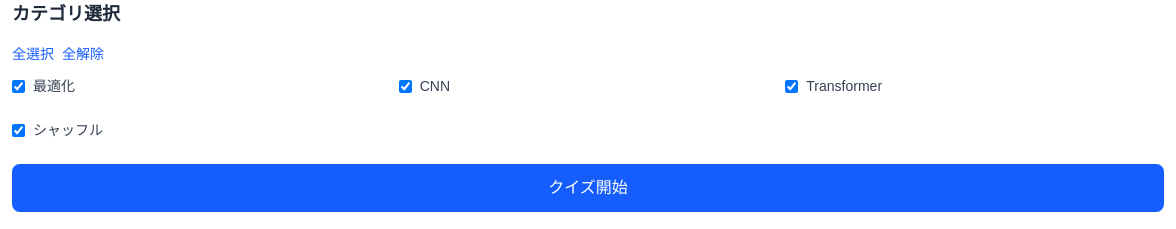
QuizSetup › 全選択ボタンで全チェック入る
This screenshot has width=1176, height=229.
Click the button "全解除": (83, 54) [62,44,104,64]
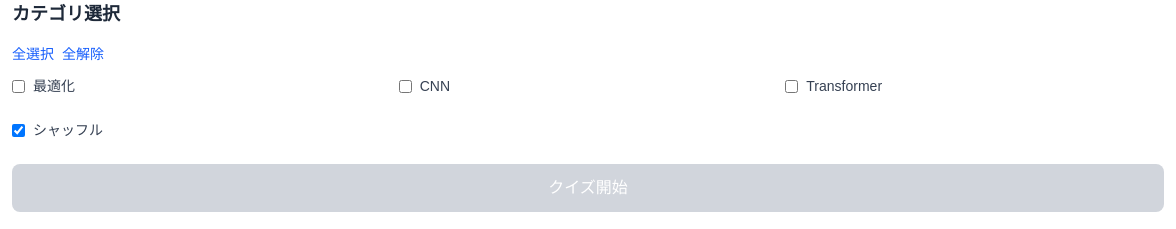
Click the button "全選択": (33, 54) [12,44,54,64]
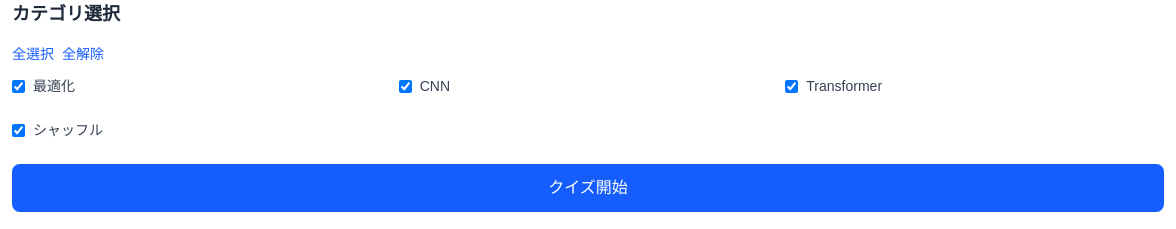
Result: the checkbox labelled "最適化" is checked at [12,80,25,92]
Result: the checkbox labelled "CNN" is checked at [399,80,412,92]
Result: the checkbox labelled "Transformer" is checked at [785,80,798,92]
